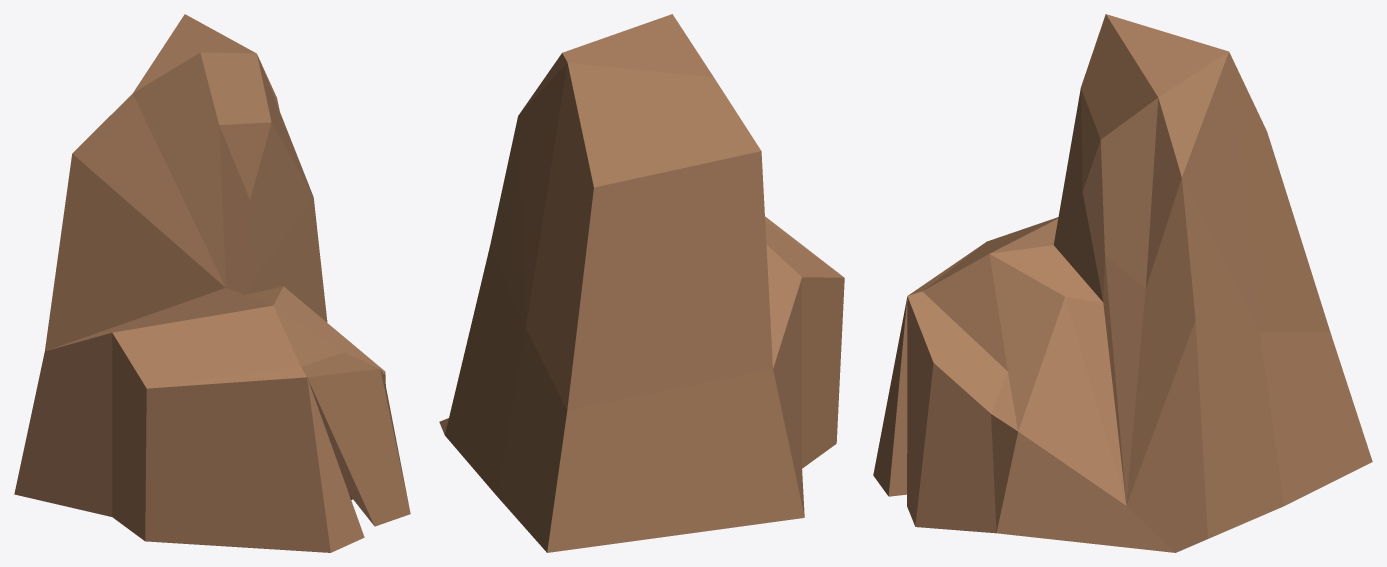
Rendered from Shore_rocks_02.fbx.
3 renders of one model, left to right at view 1: azimuth 30°, elevation 25°; view 2: azimuth 150°, elevation 25°; view 3: azimuth 270°, elevation 25°, orthographic. The views are drawn at different scales.
Visible parts, largest first — view 1: shore_rock_02; view 2: shore_rock_02; view 3: shore_rock_02.
Part boxes in pixels (bbox=[...]): shore_rock_02: bbox=[14, 14, 410, 552]; shore_rock_02: bbox=[439, 14, 844, 552]; shore_rock_02: bbox=[873, 14, 1372, 552].
Size of the model in its own units: 429 by 500 by 503.
